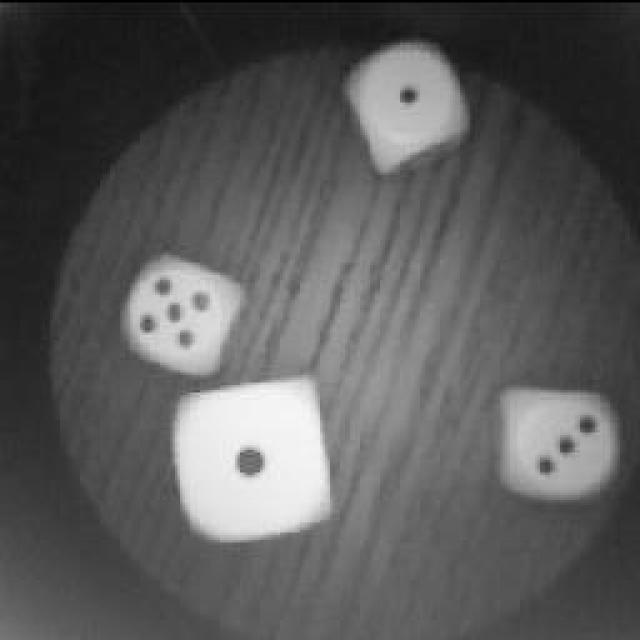dice_1: (165, 375, 335, 540), (348, 40, 470, 168)
dice_3: (498, 380, 622, 505)
dice_5: (118, 253, 240, 375)
